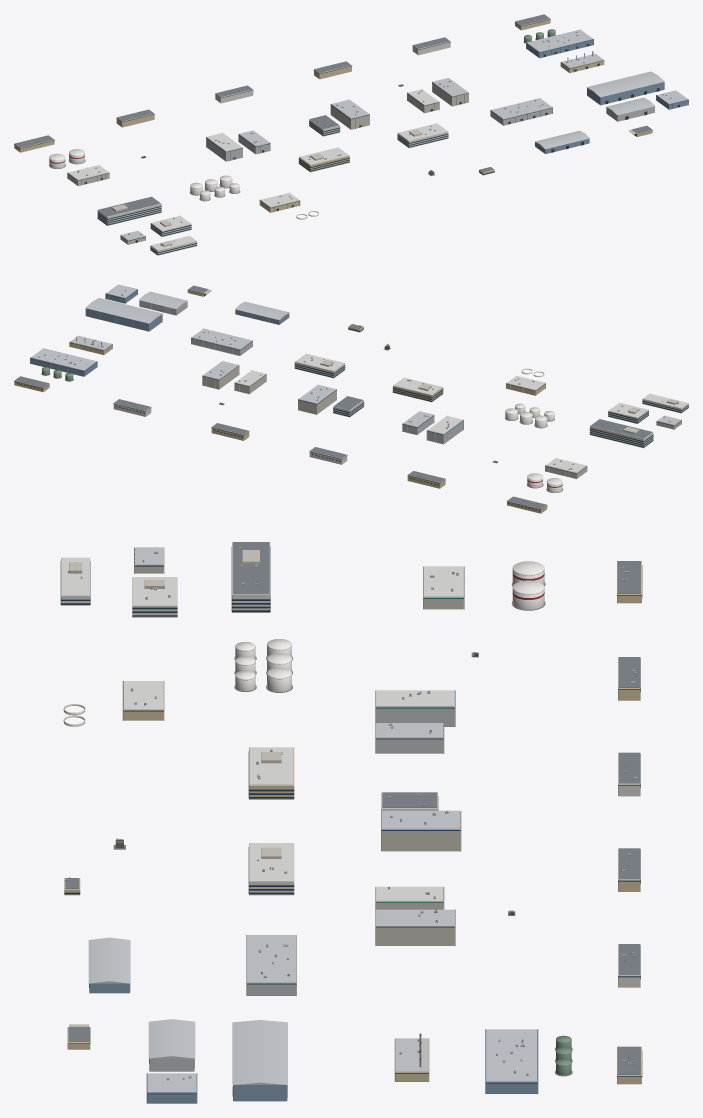
The model's file is service-buildings.glb.
3 views of the same model, one above another, from view 1: azimuth 30°, elevation 25°; view 2: azimuth 150°, elevation 25°; view 3: azimuth 270°, elevation 25° (orthographic). The views are drawn at different scales.
Visible parts, largest first — view 1: service__roof_metal, service__roof_white, service__concrete_white, service__concrete_light, service__concrete_sand, service__roof_dark, service__cladding_blue, service__cladding, service__glass_blue, service__tank_white, service__hvac; view 2: service__roof_metal, service__roof_white, service__concrete_white, service__concrete_light, service__roof_dark, service__concrete_sand, service__cladding_blue, service__cladding, service__glass_blue, service__tank_white, service__hvac; view 3: service__roof_metal, service__roof_white, service__roof_dark, service__concrete_light, service__cladding, service__tank_white, service__concrete_sand, service__concrete_white, service__cladding_blue, service__glass_blue, service__hvac.
Part boxes in pixels (x1,y1,x2,y2): service__roof_metal: [121, 29, 687, 239]; service__roof_white: [68, 89, 447, 250]; service__concrete_white: [97, 41, 450, 255]; service__concrete_light: [67, 81, 636, 246]; service__concrete_sand: [14, 18, 652, 212]; service__roof_dark: [15, 14, 651, 216]; service__cladding_blue: [526, 36, 688, 153]; service__cladding: [206, 106, 654, 161]; service__glass_blue: [97, 121, 494, 254]; service__tank_white: [49, 149, 239, 200]; service__hvac: [20, 17, 671, 245]; service__roof_metal: [31, 284, 680, 426]; service__roof_white: [235, 353, 687, 472]; service__concrete_white: [113, 354, 688, 464]; service__concrete_light: [202, 289, 681, 478]; service__roof_dark: [15, 285, 652, 508]; service__concrete_sand: [14, 289, 547, 513]; service__cladding_blue: [30, 289, 289, 376]; service__cladding: [139, 300, 463, 444]; service__glass_blue: [294, 328, 688, 447]; service__tank_white: [505, 403, 562, 492]; service__hvac: [26, 290, 678, 506]; service__roof_metal: [88, 547, 536, 1091]; service__roof_white: [62, 557, 463, 900]; service__roof_dark: [65, 542, 640, 1074]; service__concrete_light: [63, 547, 464, 1026]; service__cladding: [149, 690, 455, 1071]; service__tank_white: [235, 561, 544, 691]; service__concrete_sand: [64, 561, 641, 1084]; service__concrete_white: [61, 542, 640, 987]; service__cladding_blue: [89, 983, 538, 1103]; service__glass_blue: [60, 547, 438, 894]; service__hvac: [65, 547, 636, 1080].
Size of the model in its own units: 1144 by 23.9 by 513.
